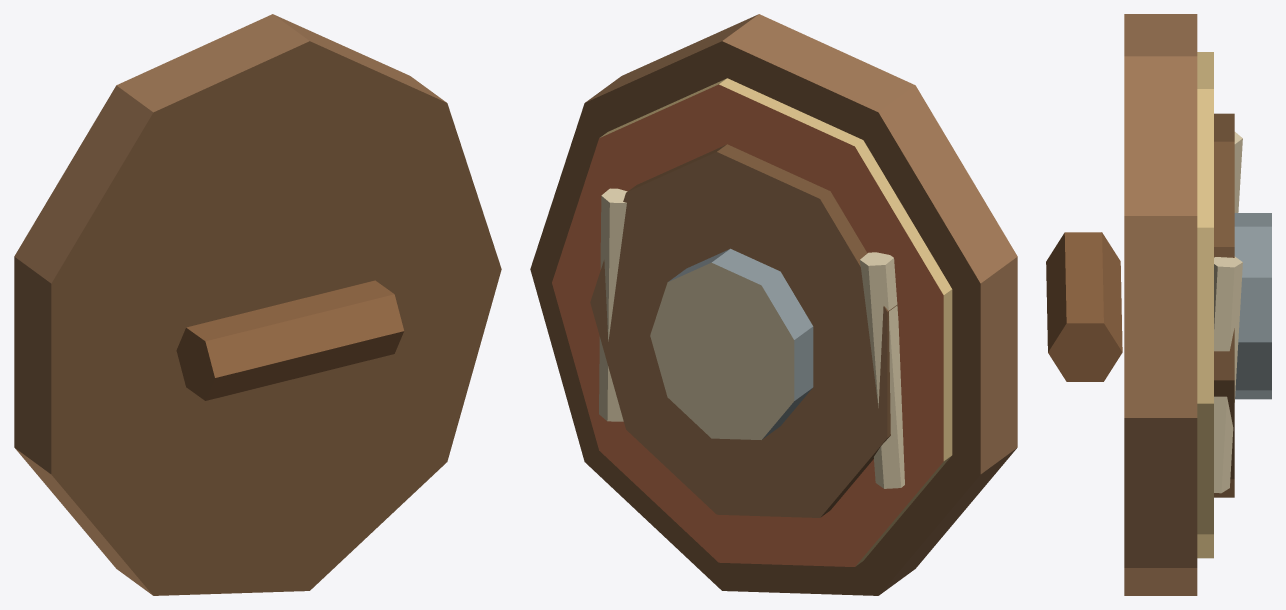
Rendered from hide_buckler.glb.
3 views of the same model, side by side, from view 1: azimuth 30°, elevation 25°; view 2: azimuth 150°, elevation 25°; view 3: azimuth 270°, elevation 25° (orthographic).
Parts seen in each view (by area): view 1: hide_buckler; view 2: hide_buckler; view 3: hide_buckler.
Boxes of the visible parts, x1,y1,x2,y2 form: hide_buckler: [14, 14, 501, 595]; hide_buckler: [530, 14, 1017, 595]; hide_buckler: [1046, 14, 1271, 595].
Size of the model in its own units: 0.547 by 0.6382 by 0.242.
